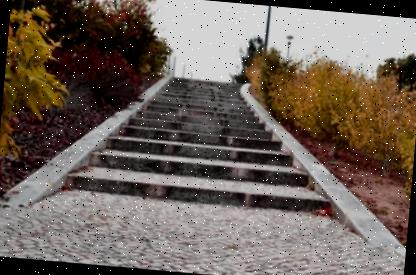stair: (127, 63, 268, 216)
